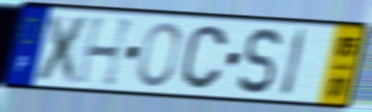C: (178, 23, 231, 93)
H: (74, 15, 138, 90)
I: (277, 26, 310, 101)
O: (136, 20, 183, 90)
S: (235, 26, 283, 97)
X: (32, 12, 95, 87)
